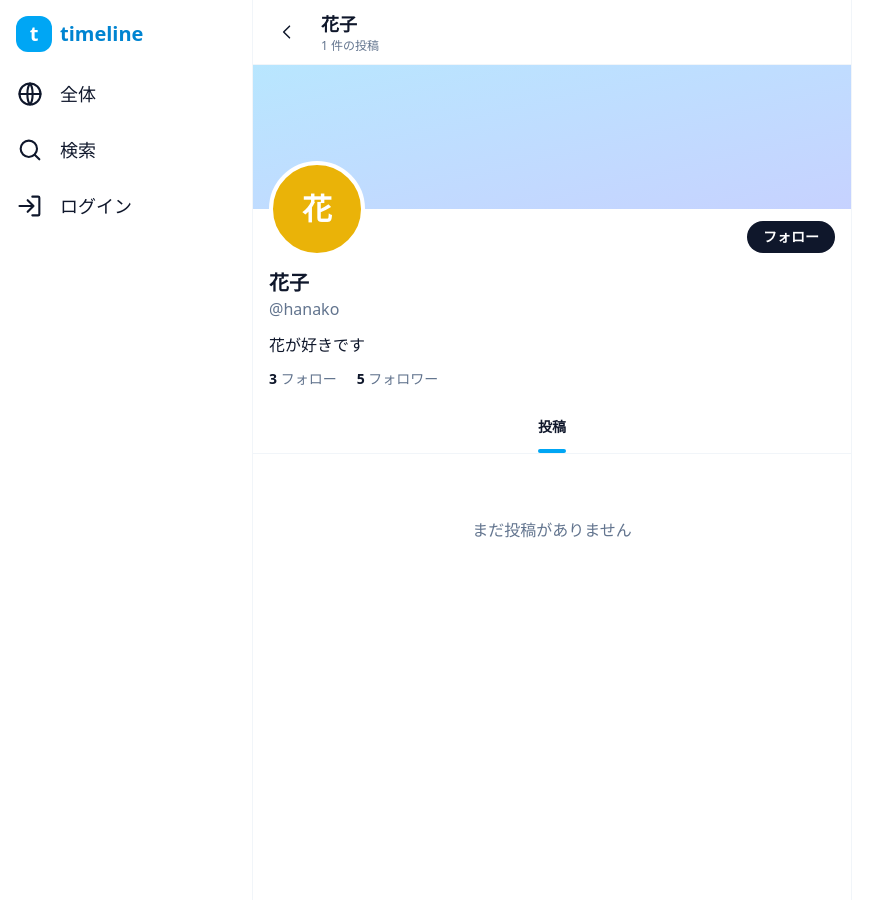
フォロー › 未ログインで押すとログイン画面へ移る
Step 1. Click the button with aria-label "@hanako をフォロー" → (791, 237), box left=747, top=221, right=835, bottom=253
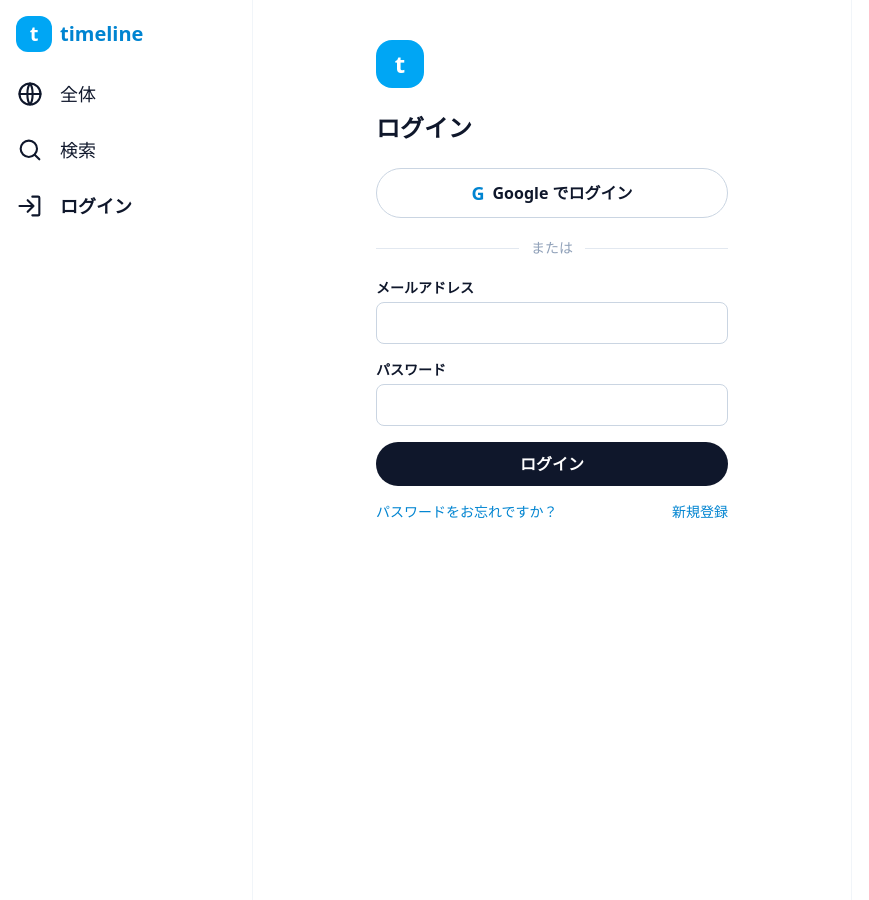
Result: the heading "ログイン" is shown at left=376, top=111, right=472, bottom=144
